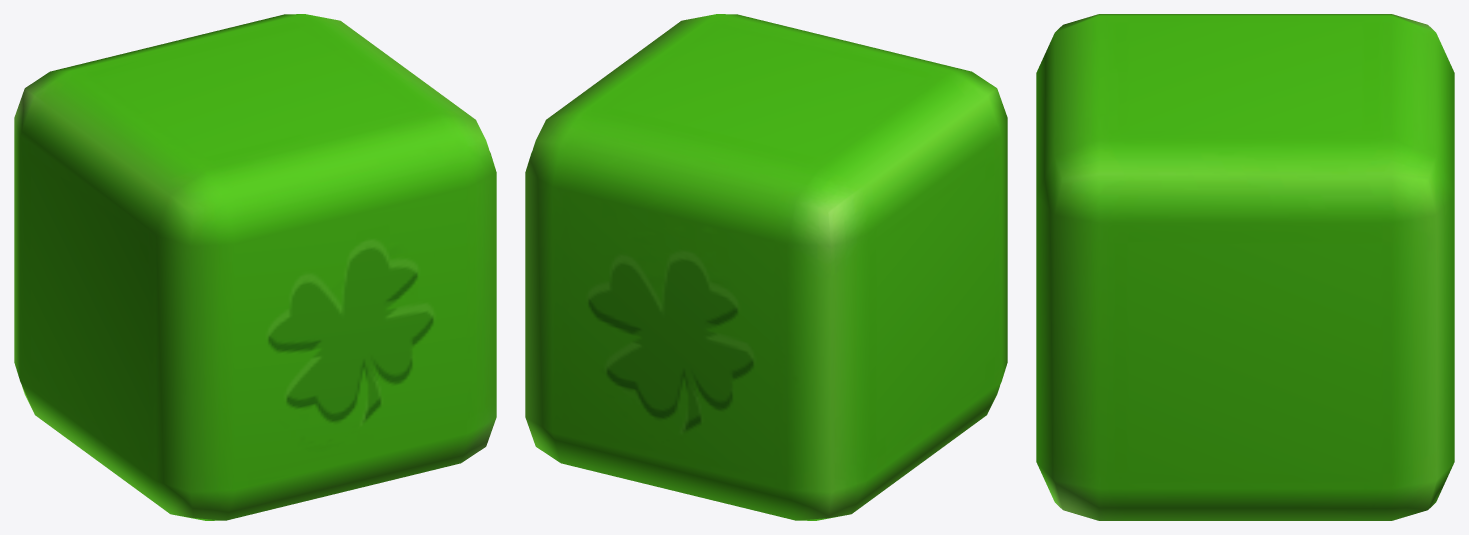
File: tooncube.fbx
3 views of the same model, side by side, from view 1: azimuth 30°, elevation 25°; view 2: azimuth 150°, elevation 25°; view 3: azimuth 270°, elevation 25° (orthographic). The views are drawn at different scales.
Visible parts, largest first — view 1: tooncube; view 2: tooncube; view 3: tooncube.
Part boxes in pixels (<box>): tooncube: <box>14,14,496,520</box>; tooncube: <box>525,14,1007,520</box>; tooncube: <box>1036,14,1454,520</box>.
Bounding box in the file's own units: 100 × 100 × 100.
